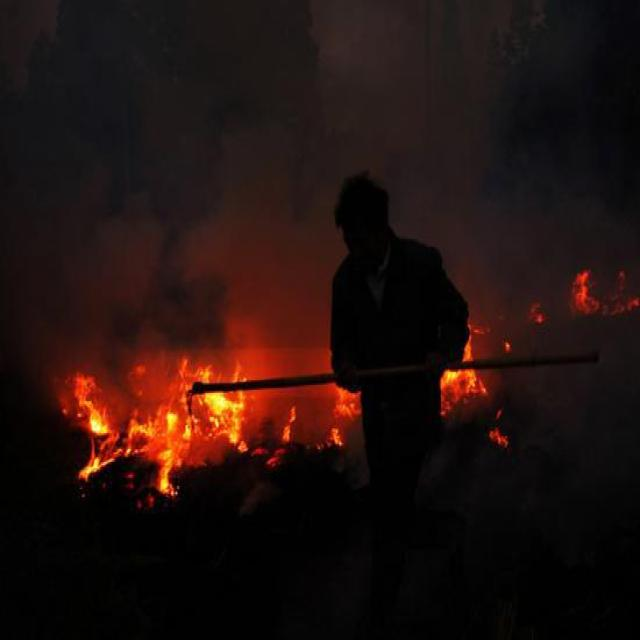fire: (60, 350, 258, 503), (547, 252, 634, 314), (443, 343, 492, 411), (320, 382, 364, 454)
smoke: (131, 202, 226, 341)
